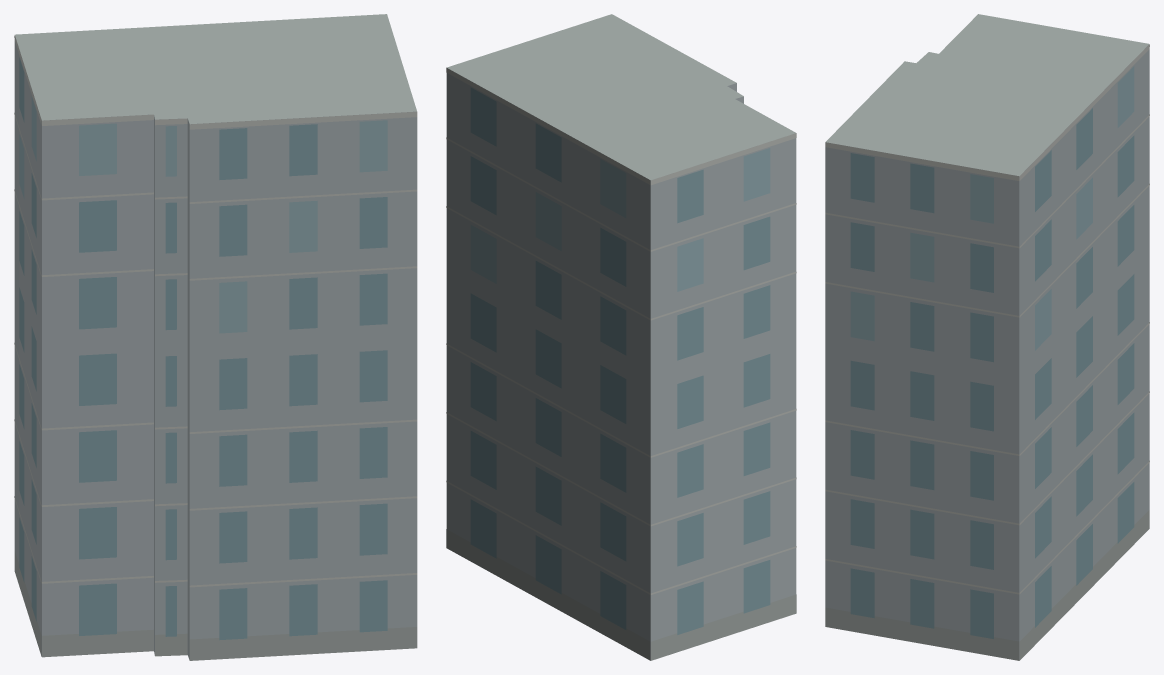
The model's file is survey-upis-32796214.glb.
3 views of the same model, side by side, from view 1: azimuth 30°, elevation 25°; view 2: azimuth 150°, elevation 25°; view 3: azimuth 270°, elevation 25° (orthographic). The views are drawn at different scales.
Visible parts, largest first — view 1: survey-upis-32796214.tmp; view 2: survey-upis-32796214.tmp; view 3: survey-upis-32796214.tmp.
Part boxes in pixels (x1,y1,x2,y2): survey-upis-32796214.tmp: [14, 14, 417, 660]; survey-upis-32796214.tmp: [446, 14, 796, 660]; survey-upis-32796214.tmp: [825, 14, 1149, 660].
Size of the model in its own units: 16.85 by 23.45 by 14.25.
